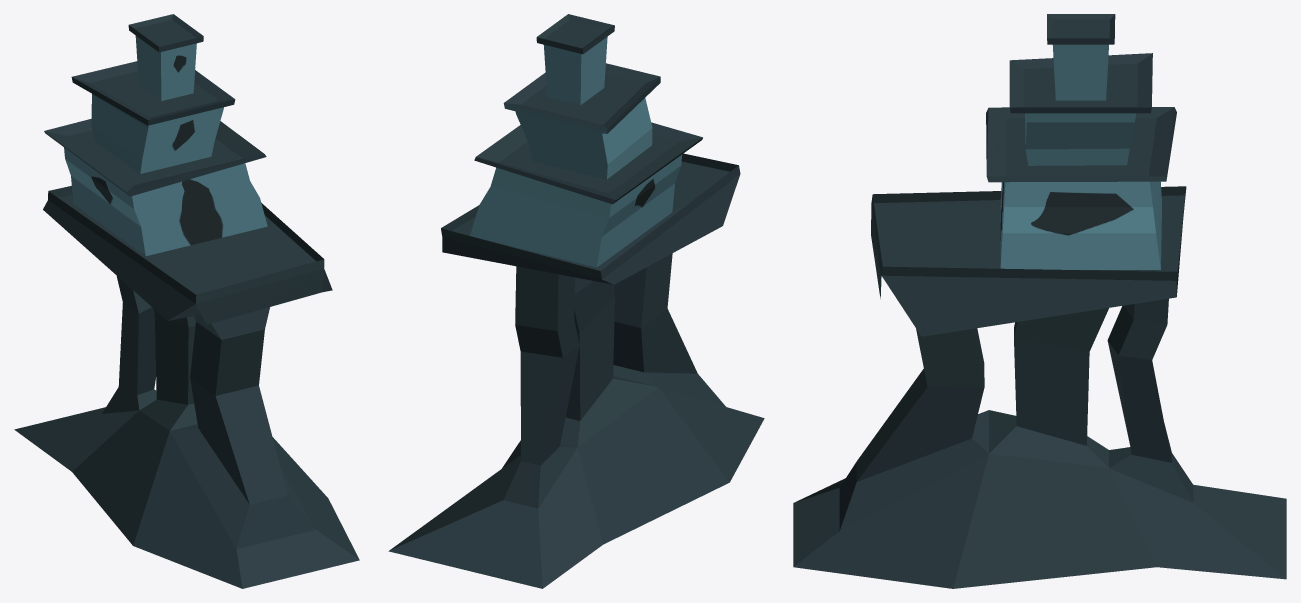
File: bathouse.fbx
The picture shows the model from 3 angles, left to right: view 1: azimuth 30°, elevation 25°; view 2: azimuth 150°, elevation 25°; view 3: azimuth 270°, elevation 25°; orthographic projection. The views are drawn at different scales.
Visible parts, largest first — view 1: Cube; view 2: Cube; view 3: Cube.
Boxes of the visible parts, x1,y1,x2,y2 form: Cube: [14, 14, 359, 588]; Cube: [388, 14, 764, 588]; Cube: [793, 14, 1286, 588].
Bounding box in the file's own units: 1168 × 2582 × 2285.
